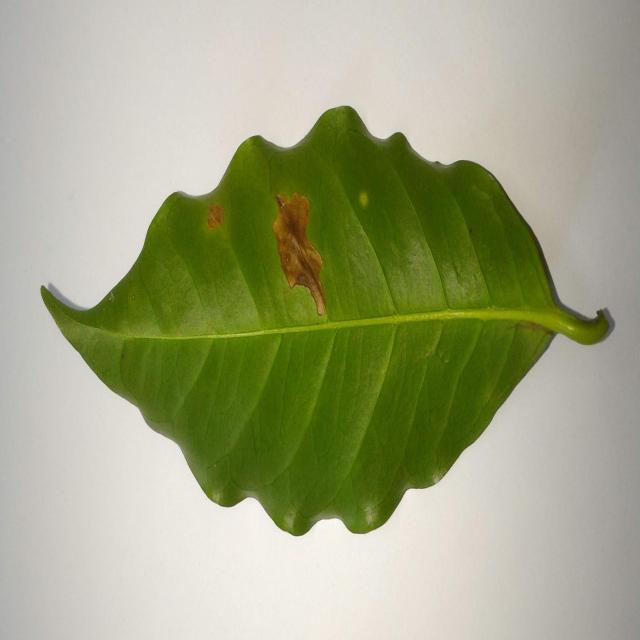miner: (273, 192, 326, 317), (206, 204, 224, 230)
